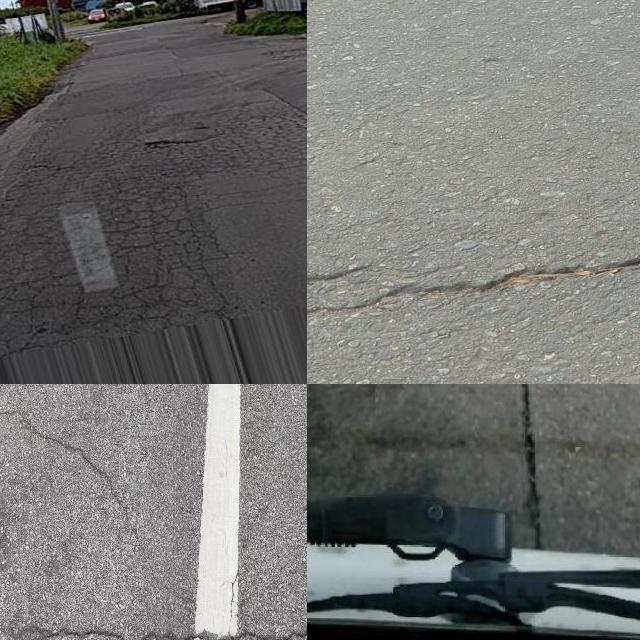Melintang: (307, 229, 640, 322), (0, 612, 307, 640), (512, 384, 558, 547)
Retak Buaya: (0, 89, 307, 354)
